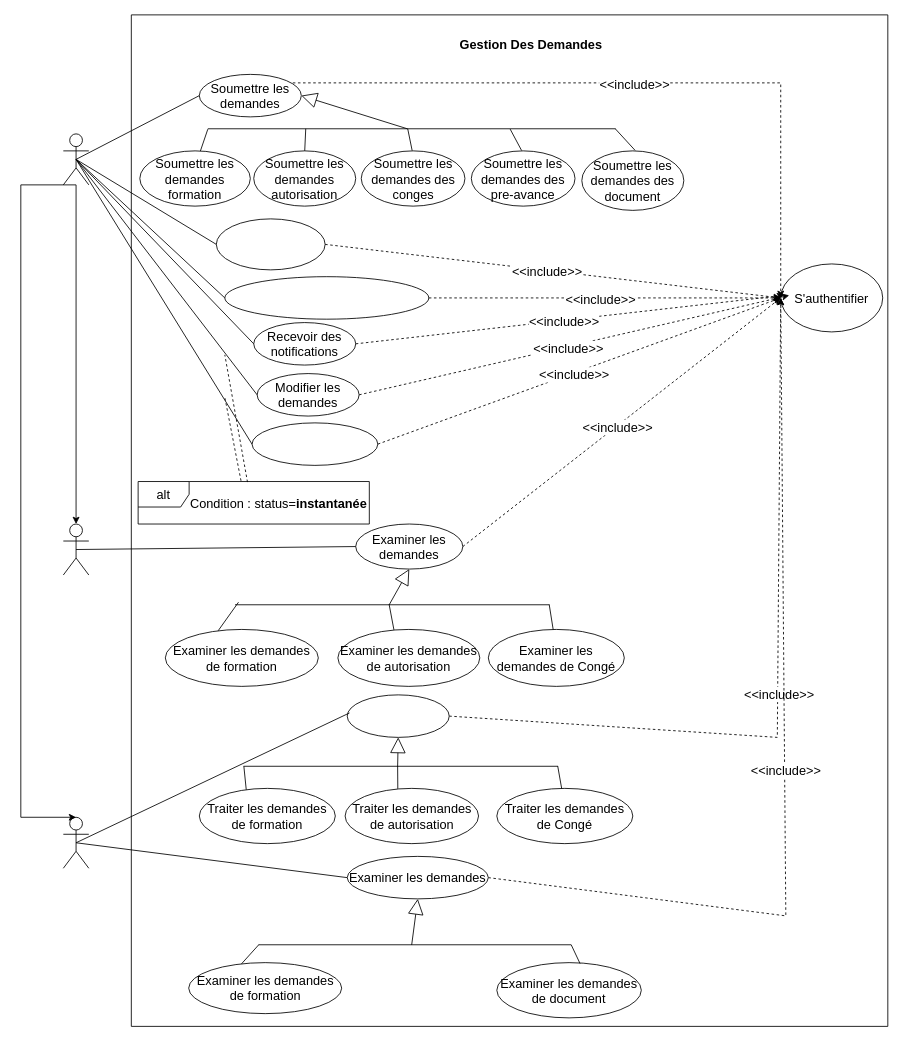
This 903x1041 diagram has some shape labels left out. Here are the shapes that lost their labels. From the top down, the centre of each, then its label:
the point at 75,159: Personnel
the point at 270,244: Consulter Calendrier de ses congés
the point at 326,297: Consulter ses document
the point at 314,443: Supprimer les demandes
the point at 75,549: Chef Hiérarchique
the point at 397,715: Traiter les demandes
the point at 75,842: RH
